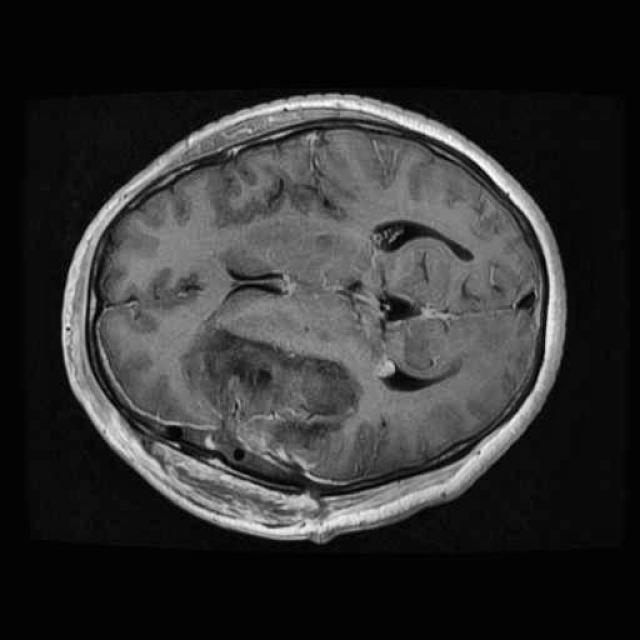Non-Tumor: (186, 309, 369, 466)
